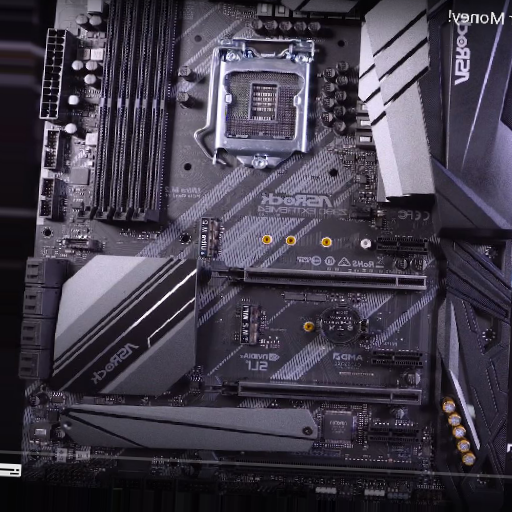CPU: (215, 46, 312, 170)
GPU: (207, 257, 429, 294), (201, 373, 424, 408)
MOTHERBOARD: (9, 3, 510, 486)
RAM: (85, 1, 183, 221)
SSD: (233, 299, 262, 345), (197, 216, 221, 259)
